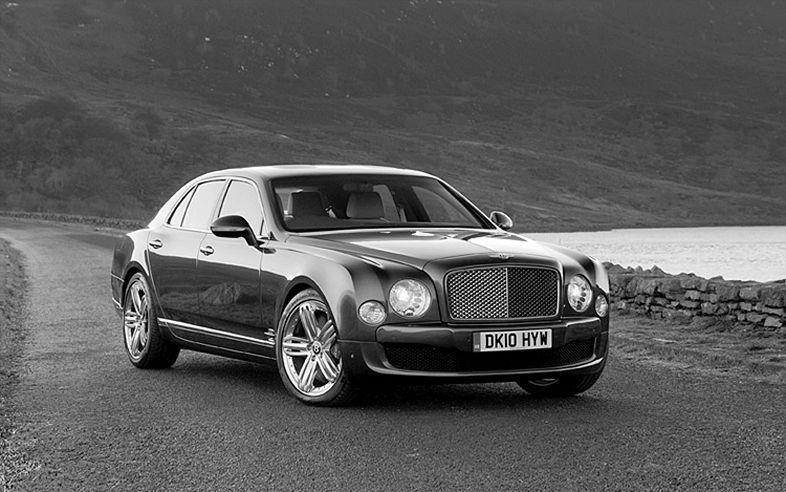car: (108, 161, 620, 404)
